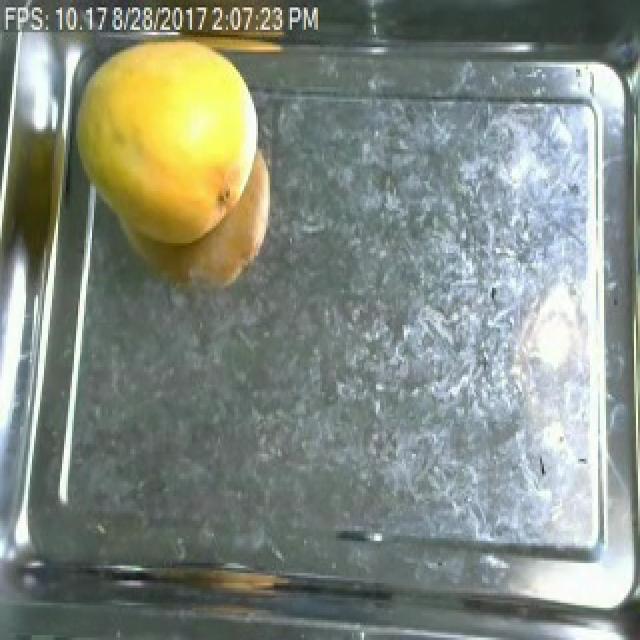fruit: (66, 27, 272, 258)
